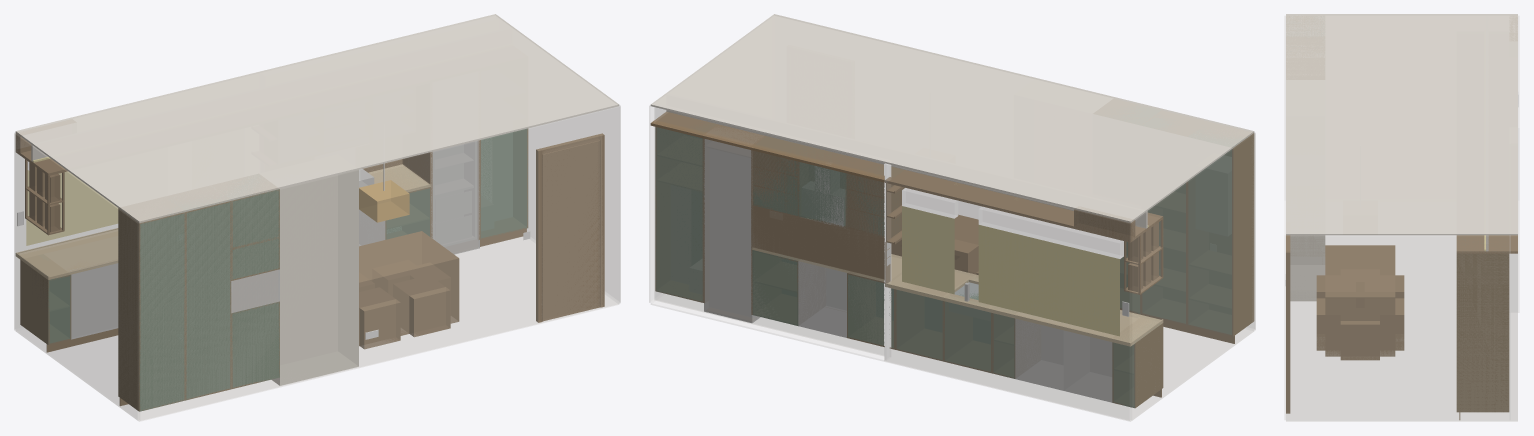
File: cocina.obj
3 views of the same model, side by side, from view 1: azimuth 30°, elevation 25°; view 2: azimuth 150°, elevation 25°; view 3: azimuth 270°, elevation 25° (orthographic). The views are drawn at different scales.
Visible parts, largest first — view 1: Pared Sur, Techo, Pared Oeste, Columna azulejo, Suelo, Puerta, Caldera, Despensa Sur, Mesa comedor, Pared Este, Frigorífico, Escobero (+21 smaller); view 2: Techo, Pared Norte izq, Pared Norte der, Pared Oeste, Ventana grande, Suelo, Frigorífico, Vuelo, Escobero, Caldera, Salpicadero, Cajones (+26 smaller); view 3: Techo, Pared Este, Suelo, Lado der Escobero, Mesa comedor, Columna azulejo, Silla 6, Vuelo, Marco puerta der, Pared Sur, Pared Norte izq, Silla 2 (+4 smaller).
Boxes of the visible parts, x1,y1,x2,y2 form: Pared Sur: (139, 106, 619, 420); Techo: (15, 14, 619, 223); Pared Oeste: (14, 133, 138, 420); Columna azulejo: (271, 169, 358, 385); Suelo: (16, 237, 618, 421); Puerta: (542, 140, 600, 321); Caldera: (139, 213, 185, 411); Despensa Sur: (185, 202, 231, 400); Mesa comedor: (359, 231, 459, 345); Pared Este: (527, 105, 620, 302); Frigorífico: (431, 140, 479, 254); Escobero: (480, 128, 528, 238); Techo: (650, 14, 1254, 223); Pared Norte izq: (884, 163, 1130, 420); Pared Norte der: (654, 107, 884, 355); Pared Oeste: (1131, 133, 1255, 420); Ventana grande: (978, 225, 1119, 336); Suelo: (651, 294, 1253, 421); Frigorífico: (704, 139, 760, 323); Vuelo: (650, 111, 1163, 242); Escobero: (655, 127, 703, 302); Caldera: (1187, 148, 1233, 334); Salpicadero: (752, 205, 884, 279); Cajones: (847, 273, 943, 360); Techo: (1286, 14, 1517, 235); Pared Este: (1286, 235, 1517, 420); Suelo: (1286, 236, 1517, 421); Lado der Escobero: (1456, 253, 1509, 412); Mesa comedor: (1325, 245, 1395, 356); Columna azulejo: (1290, 235, 1325, 301); Silla 6: (1340, 321, 1379, 360); Vuelo: (1456, 235, 1517, 253); Marco puerta der: (1286, 250, 1290, 413); Pared Sur: (1284, 16, 1285, 419); Pared Norte izq: (1518, 16, 1519, 312); Silla 2: (1316, 298, 1325, 350).
Bounding box in the file's own units: 5.98 × 2.37 × 2.69.
